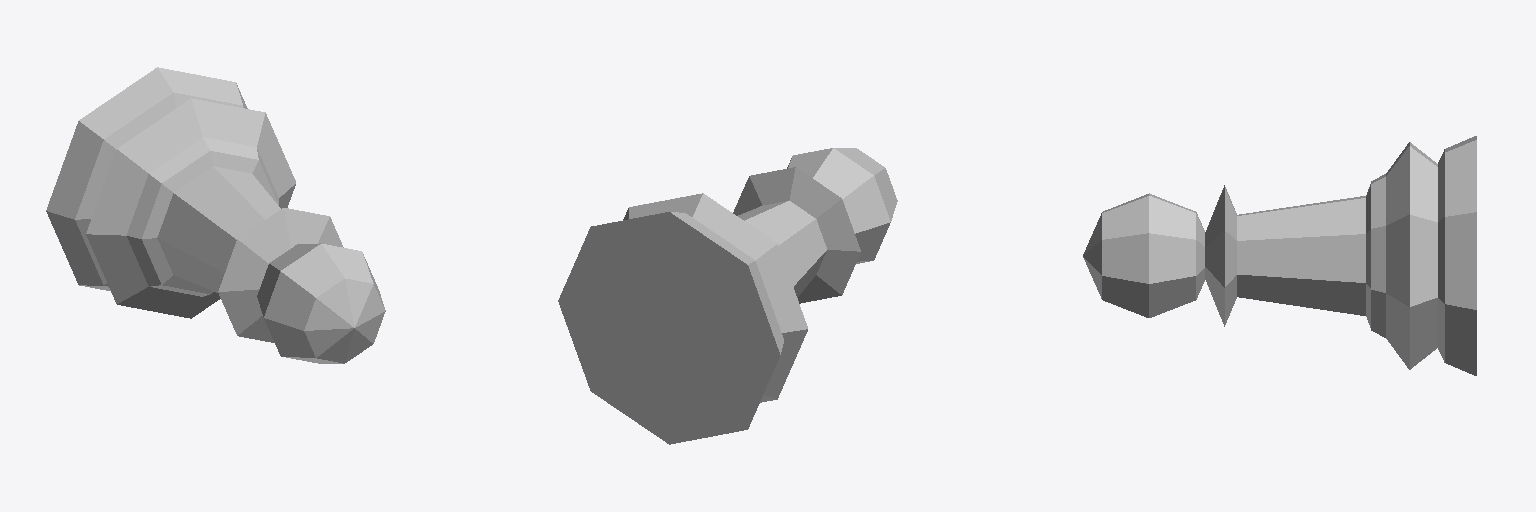
Rendered from ChessPawn.obj.
3 renders of one model, left to right at view 1: azimuth 30°, elevation 25°; view 2: azimuth 150°, elevation 25°; view 3: azimuth 270°, elevation 25°, orthographic.
Parts seen in each view (by area): view 1: White_Pawn.007_Cylinder.008; view 2: White_Pawn.007_Cylinder.008; view 3: White_Pawn.007_Cylinder.008.
Boxes of the visible parts, x1,y1,x2,y2 form: White_Pawn.007_Cylinder.008: [46, 67, 385, 363]; White_Pawn.007_Cylinder.008: [558, 148, 897, 444]; White_Pawn.007_Cylinder.008: [1083, 136, 1476, 375].
Size of the model in its own units: 3 by 3 by 4.6.